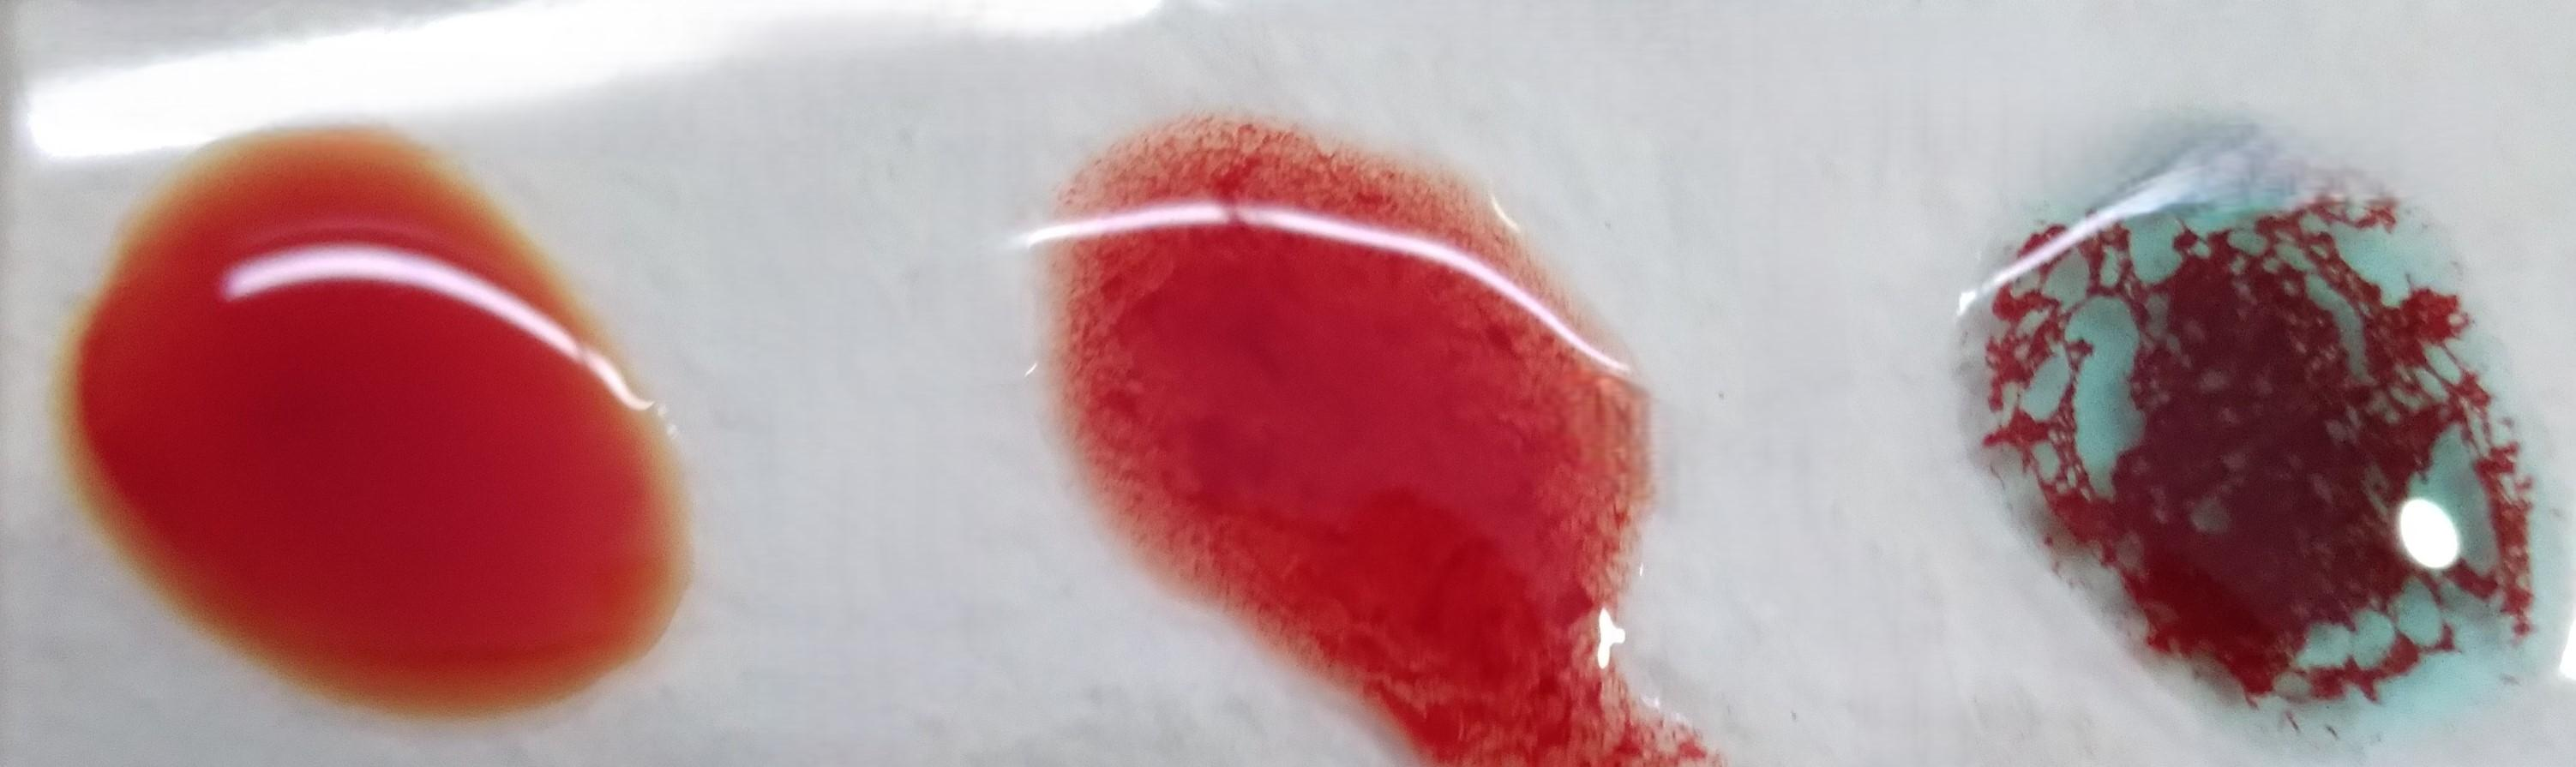A: (1963, 135, 2564, 724)
D: (1063, 118, 1661, 767)
